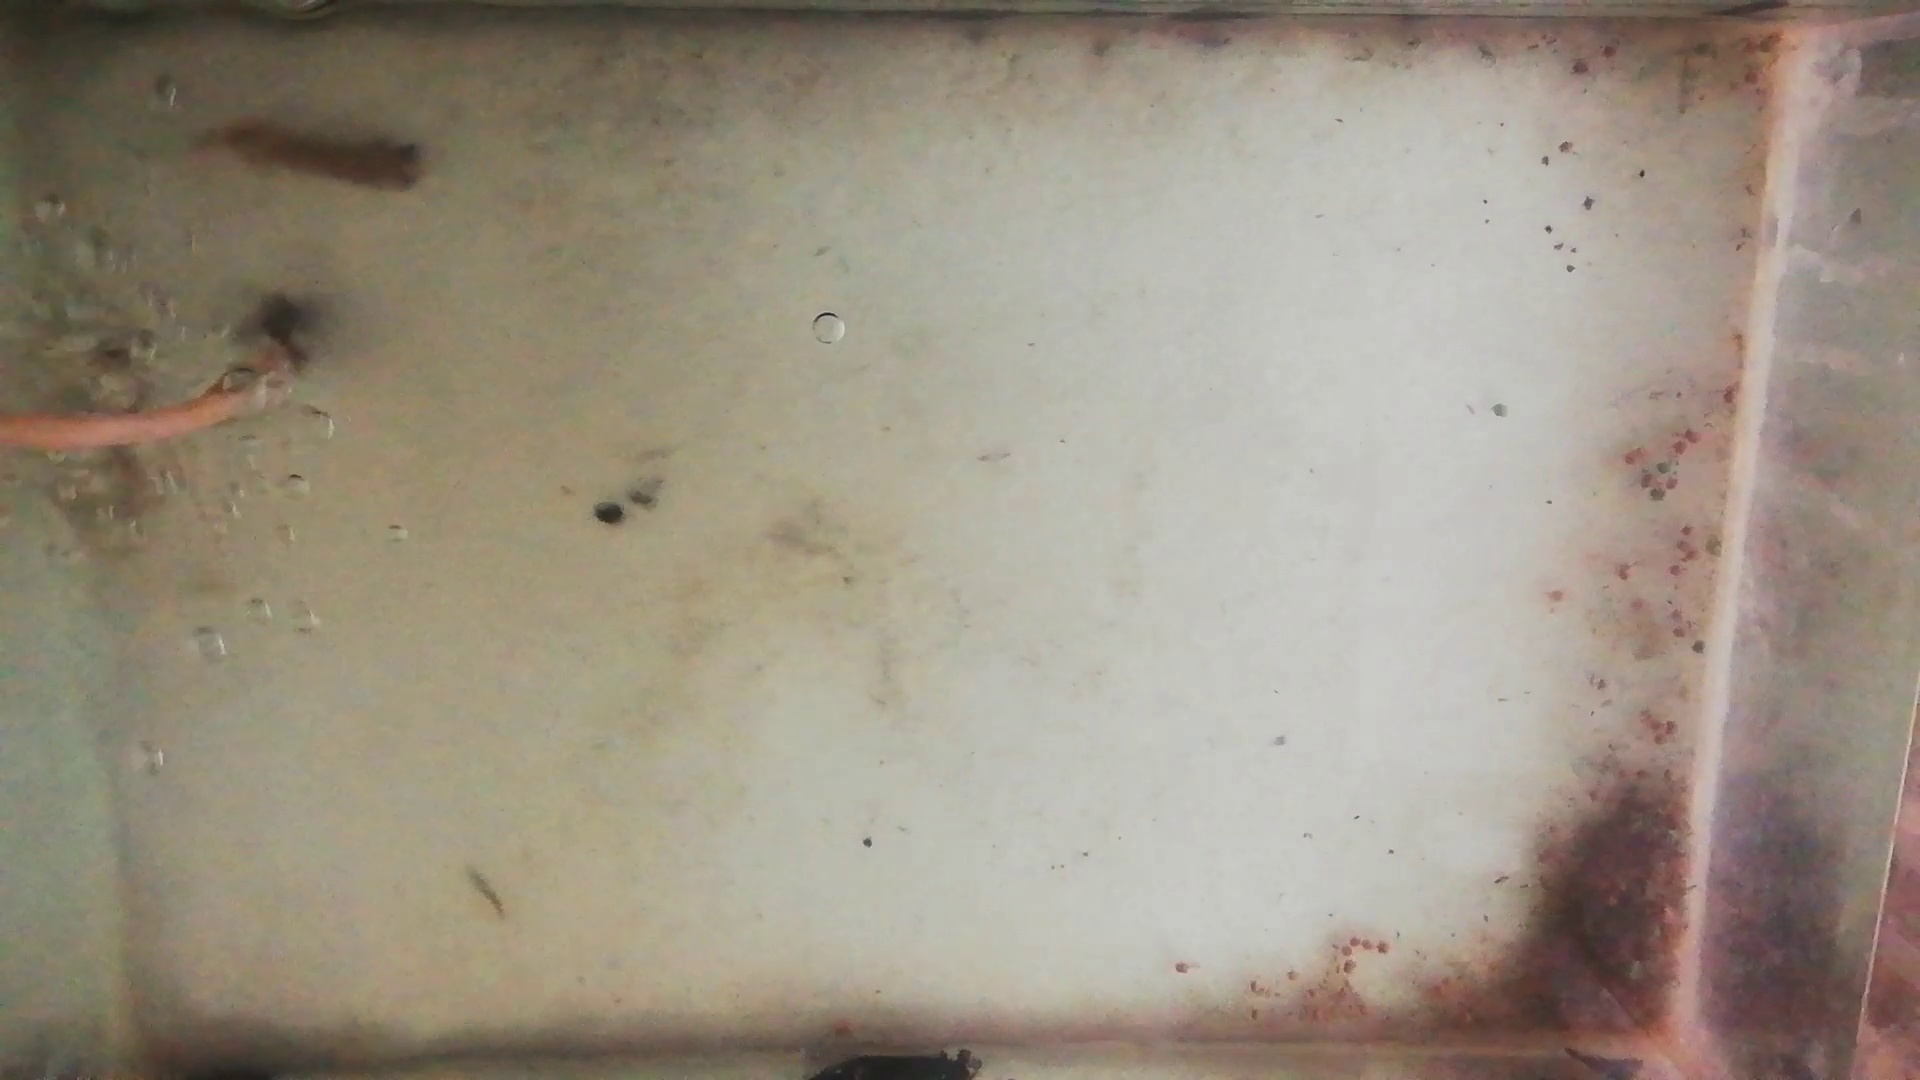fish: (199, 117, 431, 199), (80, 342, 158, 522)
